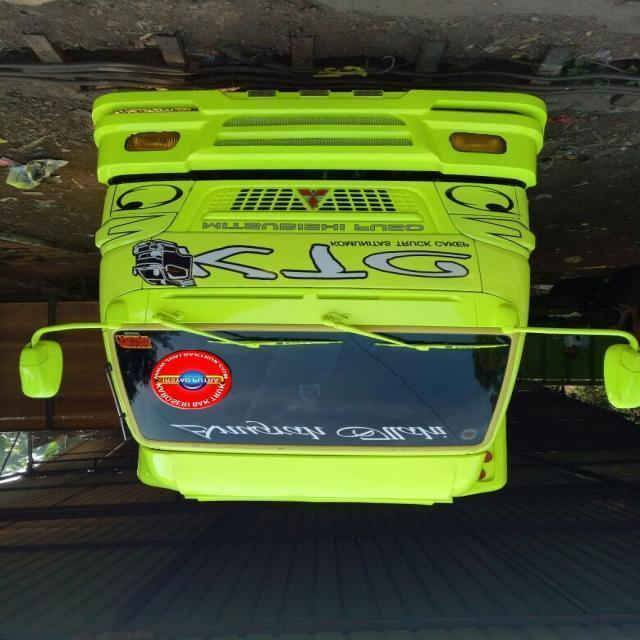Truck: (16, 88, 640, 504)
